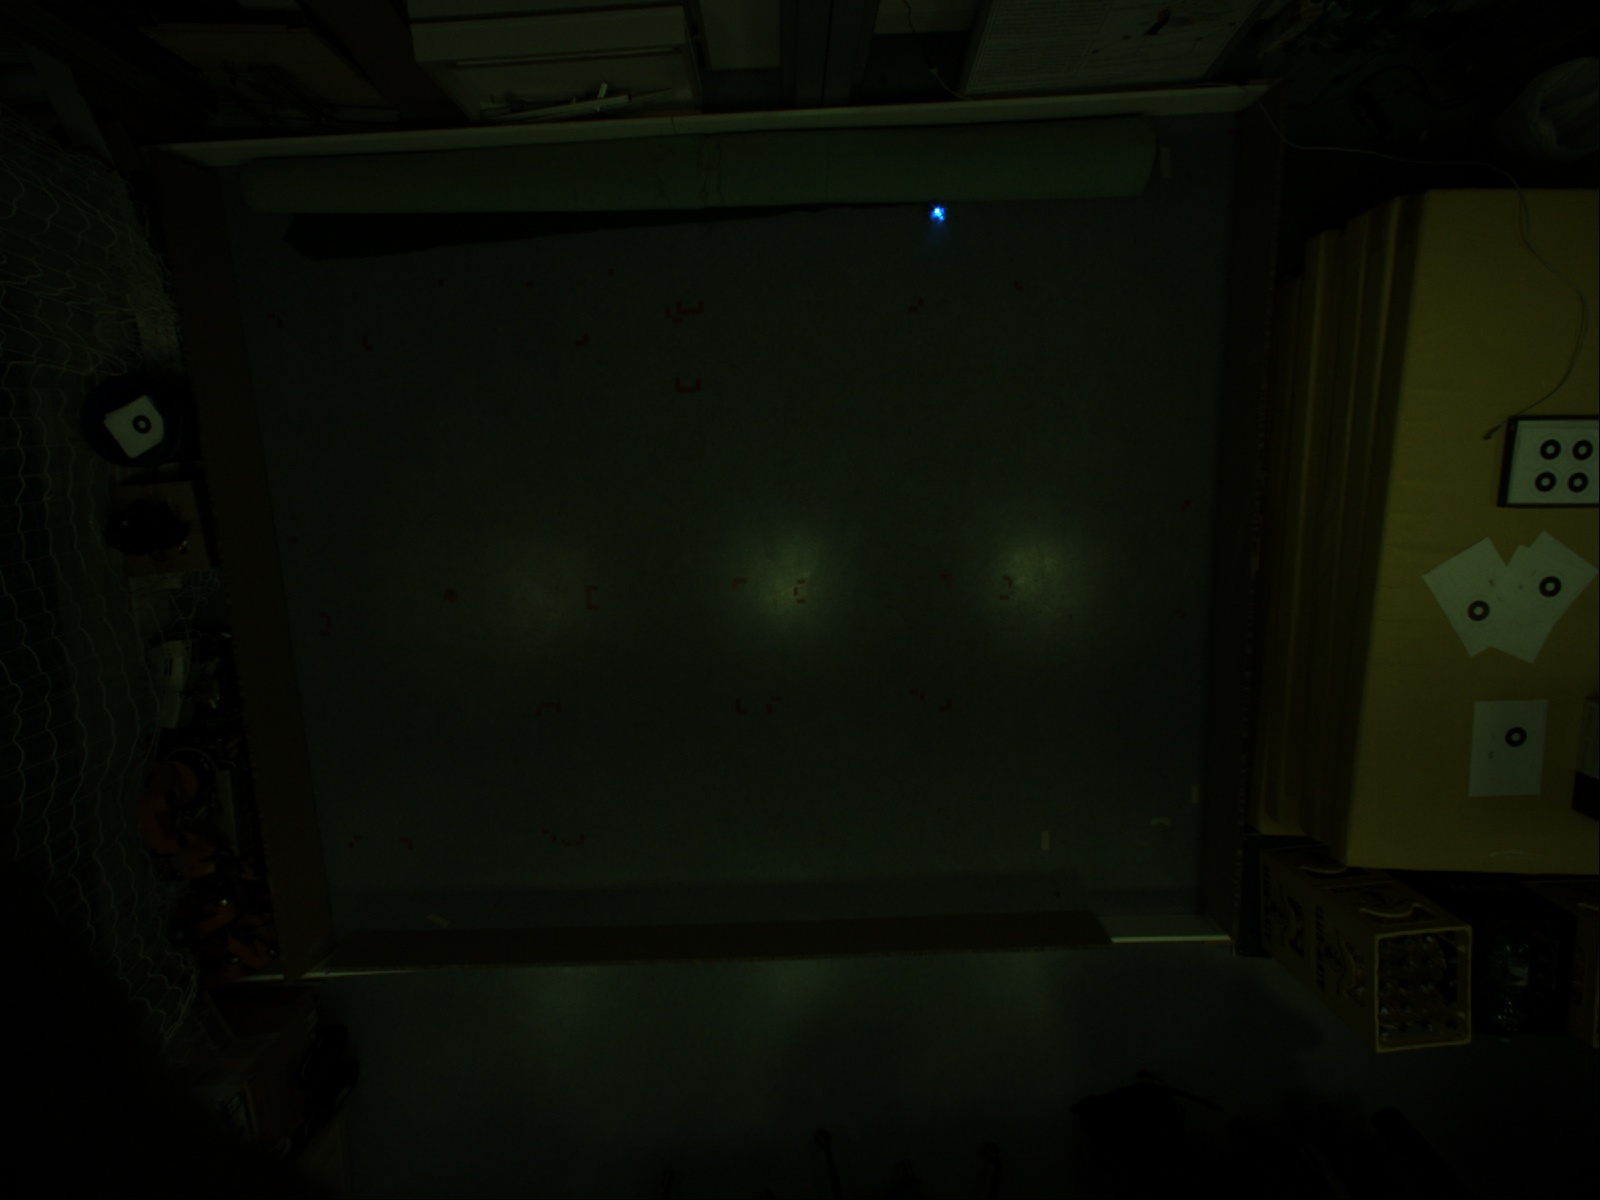sphero: (927, 200, 950, 226)
